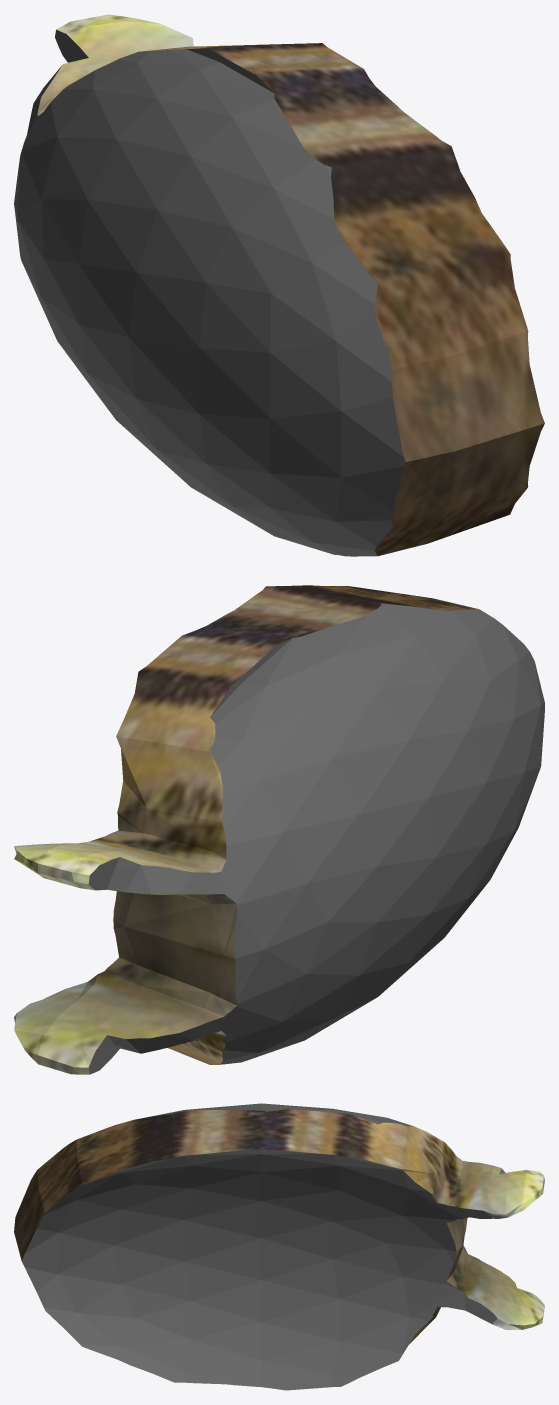
3 renders of one model, top to bottom at view 1: azimuth 30°, elevation 25°; view 2: azimuth 150°, elevation 25°; view 3: azimuth 270°, elevation 25°, orthographic. The views are drawn at different scales.
Parts seen in each view (by area): view 1: link_6_visual; view 2: link_6_visual; view 3: link_6_visual.
Part boxes in pixels (left/top/right/bottom): link_6_visual: left=14, top=14, right=544, bottom=556; link_6_visual: left=14, top=585, right=544, bottom=1074; link_6_visual: left=14, top=1103, right=544, bottom=1390.
Size of the model in its own units: 0.00134 by 0.00206 by 0.00381.
1 material, 1 textured.
